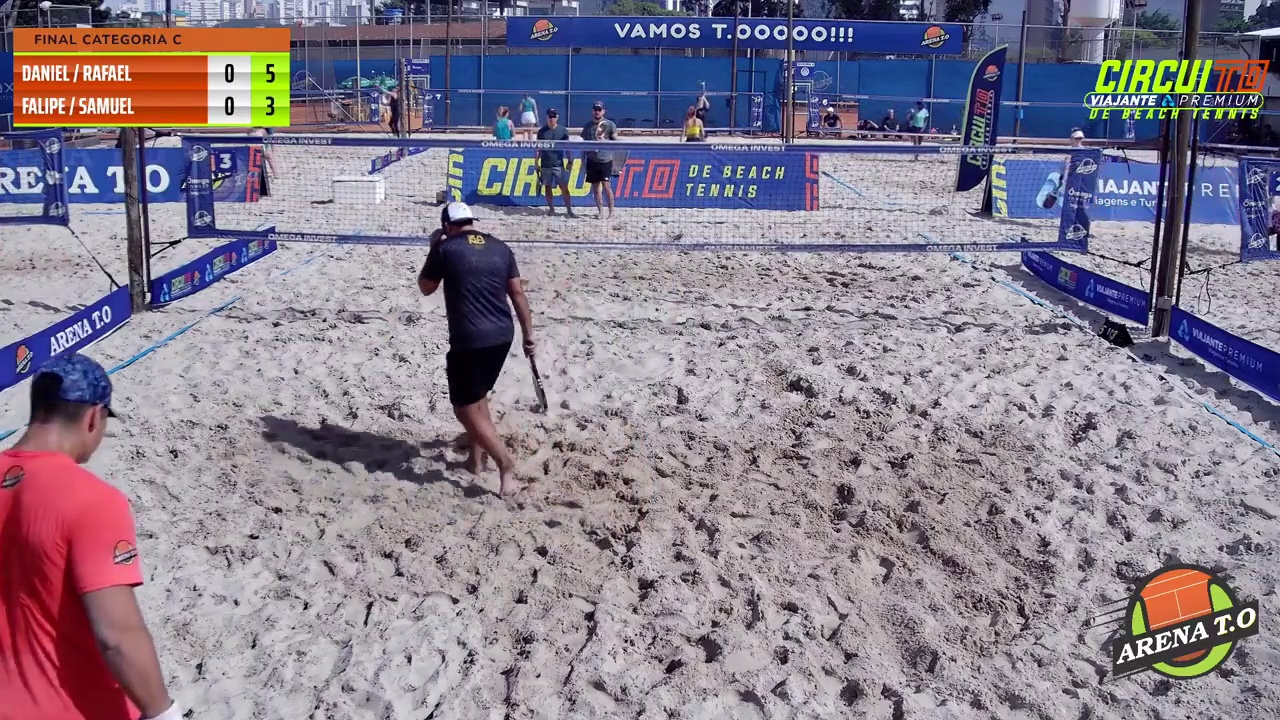court_line: (627, 0, 813, 498)
